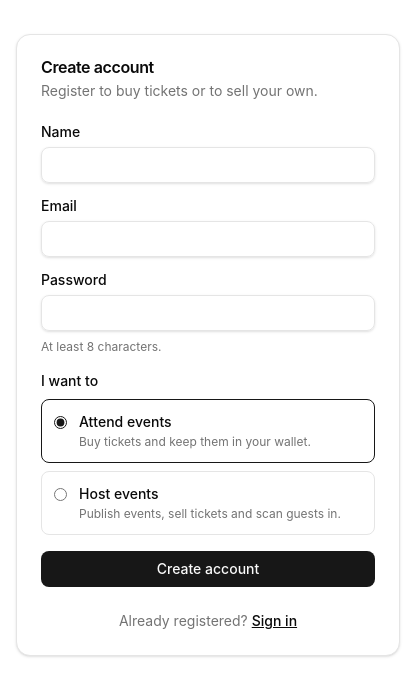
Test case: RegisterPage › reports an unexpected failure
The image size is (417, 692).
Type "Dora Klein" into the field with id "name". click: (208, 165)
box: [41,147,375,183]
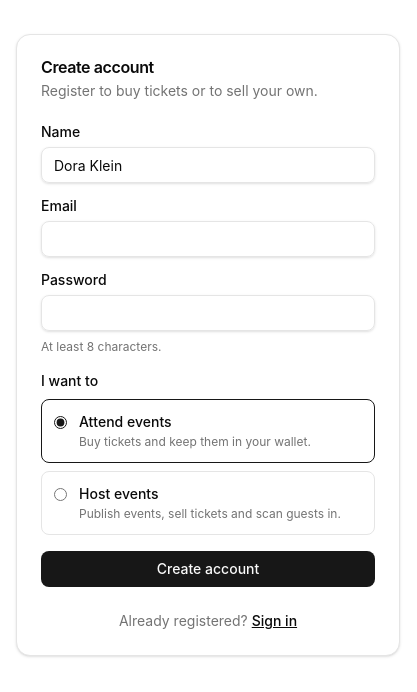
Type "dora@example.com" into the field with id "email". click: (208, 239)
box: [41,221,375,257]
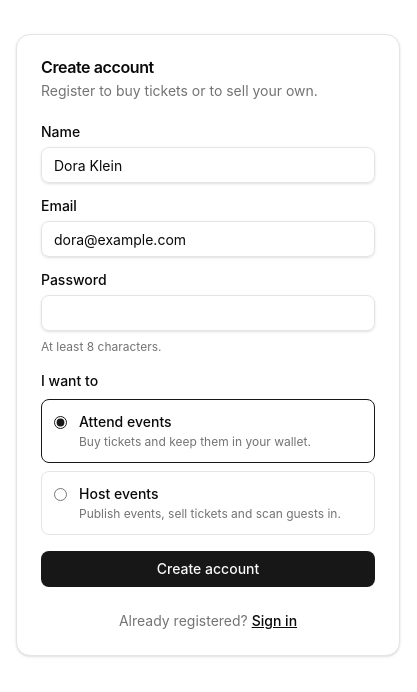
Type "user12345" into the password field labelled "Password". click: (208, 313)
box: [41,295,375,331]
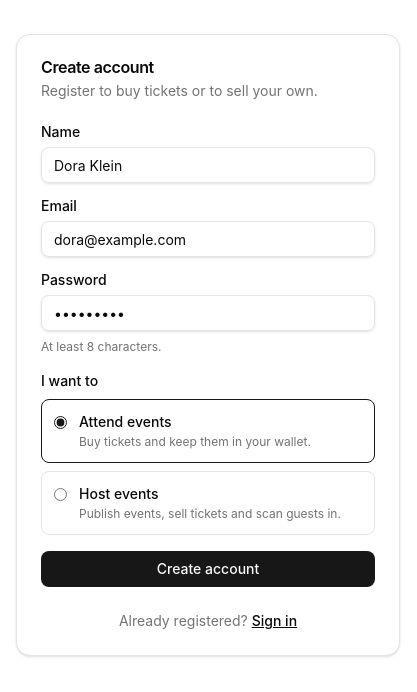
Submit the form, box [41,125,375,587]
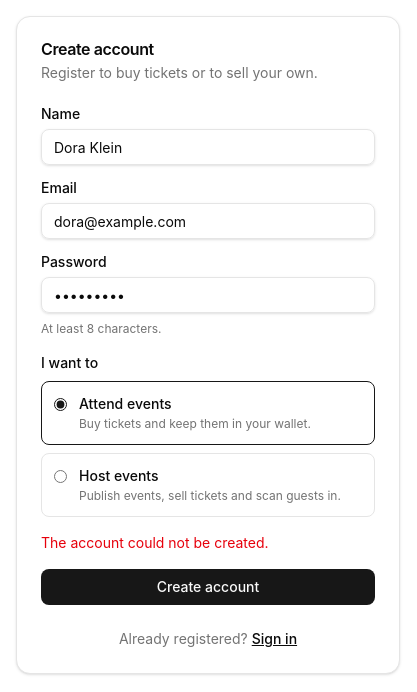
Expected: the text "The account could not be created." is shown, [41,534,269,551]
